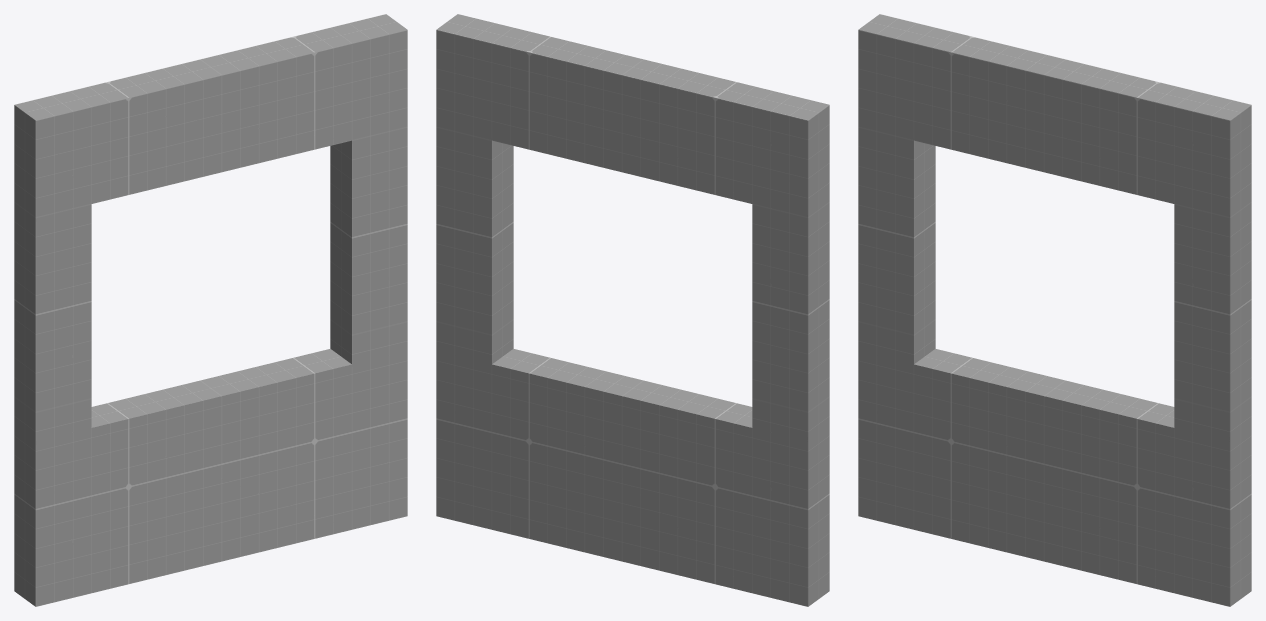
The model's file is Window_1x2.001.fbx.
3 views of the same model, side by side, from view 1: azimuth 30°, elevation 25°; view 2: azimuth 150°, elevation 25°; view 3: azimuth 330°, elevation 25° (orthographic).
Visible parts, largest first — view 1: Window_1x2.001; view 2: Window_1x2.001; view 3: Window_1x2.001.
Boxes of the visible parts, box(x1,y1,x2,y2) form: Window_1x2.001: box(14, 14, 407, 606); Window_1x2.001: box(436, 14, 829, 606); Window_1x2.001: box(858, 14, 1251, 606).
Size of the model in its own units: 200 by 250 by 20.
